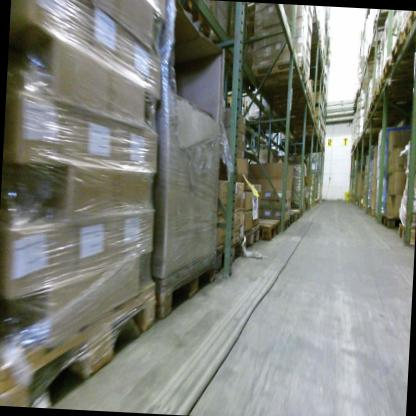pallet: (0, 269, 159, 412), (146, 247, 221, 328), (249, 56, 308, 93), (214, 234, 244, 276), (380, 51, 416, 84), (378, 66, 416, 95), (360, 109, 405, 132), (372, 80, 416, 103), (274, 96, 316, 118), (366, 104, 410, 124), (252, 213, 281, 243), (389, 33, 416, 64), (367, 98, 413, 116), (264, 87, 311, 104), (236, 224, 263, 253), (393, 221, 415, 246), (377, 210, 403, 231), (289, 118, 319, 136), (400, 11, 416, 43), (371, 13, 388, 35), (365, 40, 381, 61), (289, 114, 316, 126), (286, 209, 300, 223), (279, 216, 290, 233), (286, 211, 296, 227), (367, 204, 377, 217), (303, 200, 313, 213), (298, 208, 306, 216)
